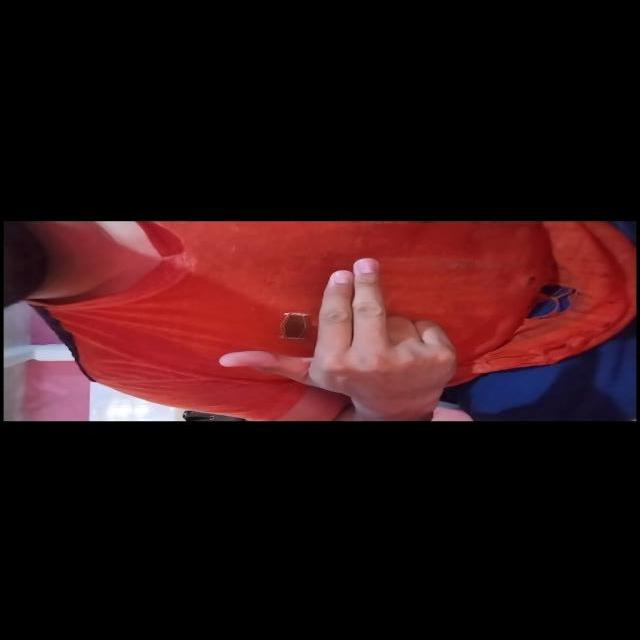H: (203, 258, 477, 422)
